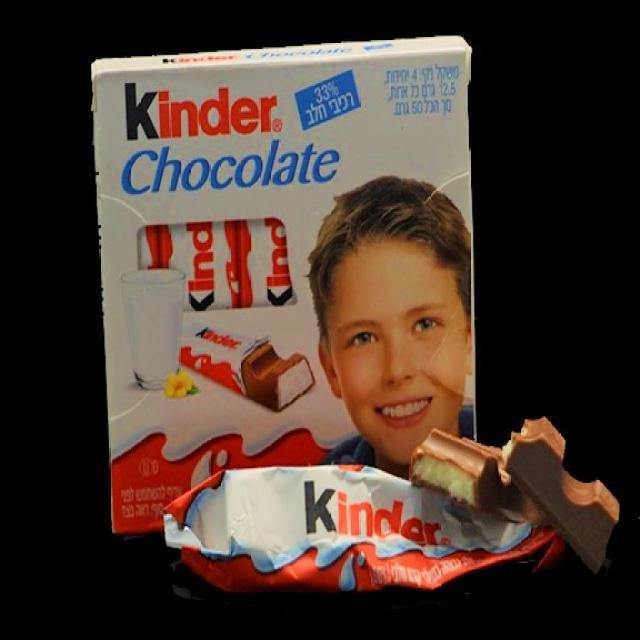Chocolate bar: (90, 36, 476, 548), (154, 464, 563, 599)
Chocolate bar packaged: (500, 406, 620, 580), (410, 427, 514, 517)
